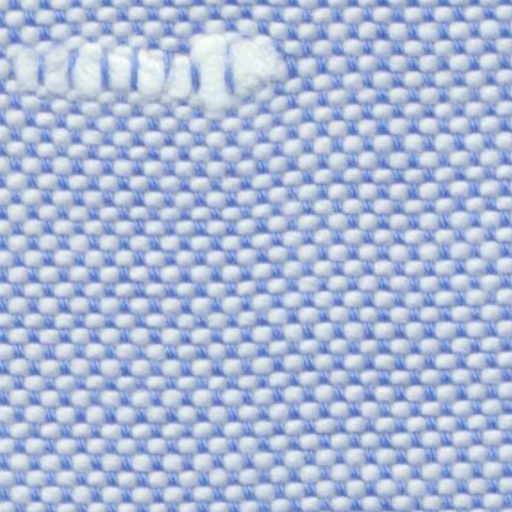DaiSha: (6, 15, 304, 120)
